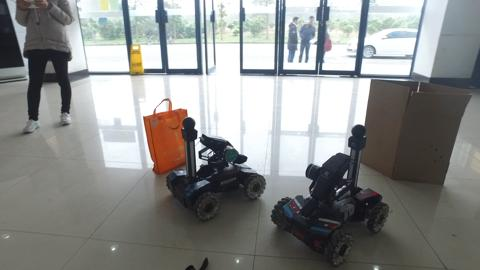bag: (146, 94, 186, 174)
box: (368, 74, 466, 186)
chariot: (267, 122, 389, 267), (175, 117, 269, 219)
